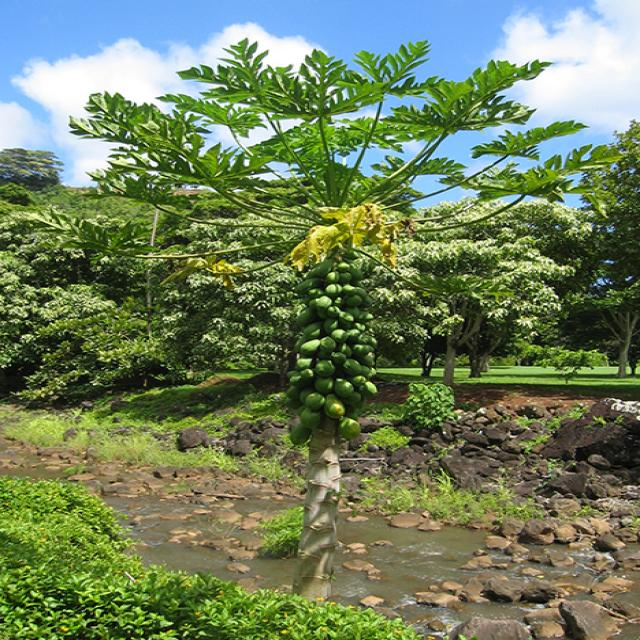Papaya-Tree: (14, 33, 631, 592)
